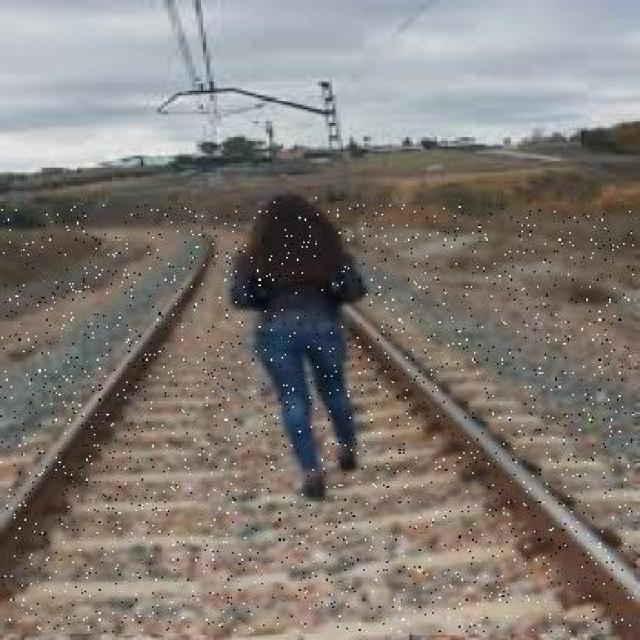danger: (235, 197, 358, 494)
rail: (0, 205, 634, 632)
